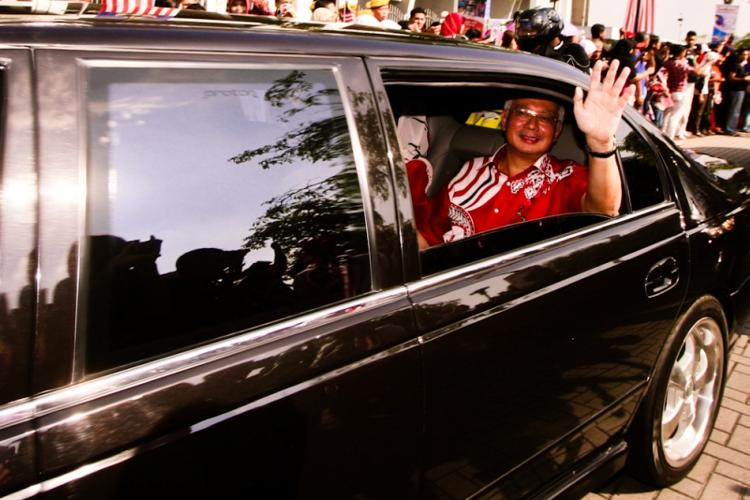person: (440, 60, 629, 245)
